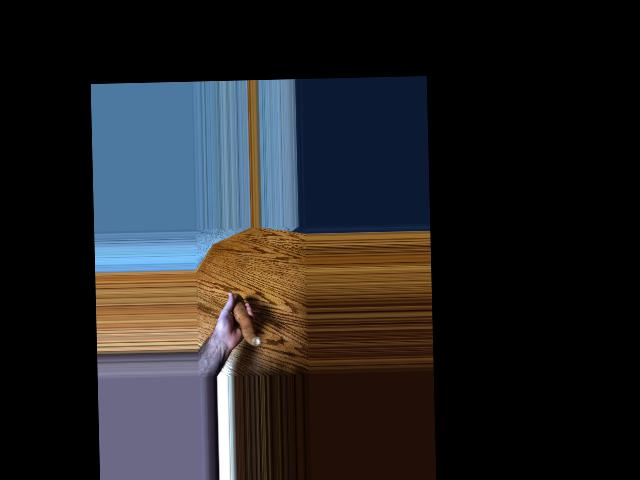sweet_potato: (230, 294, 259, 349)
